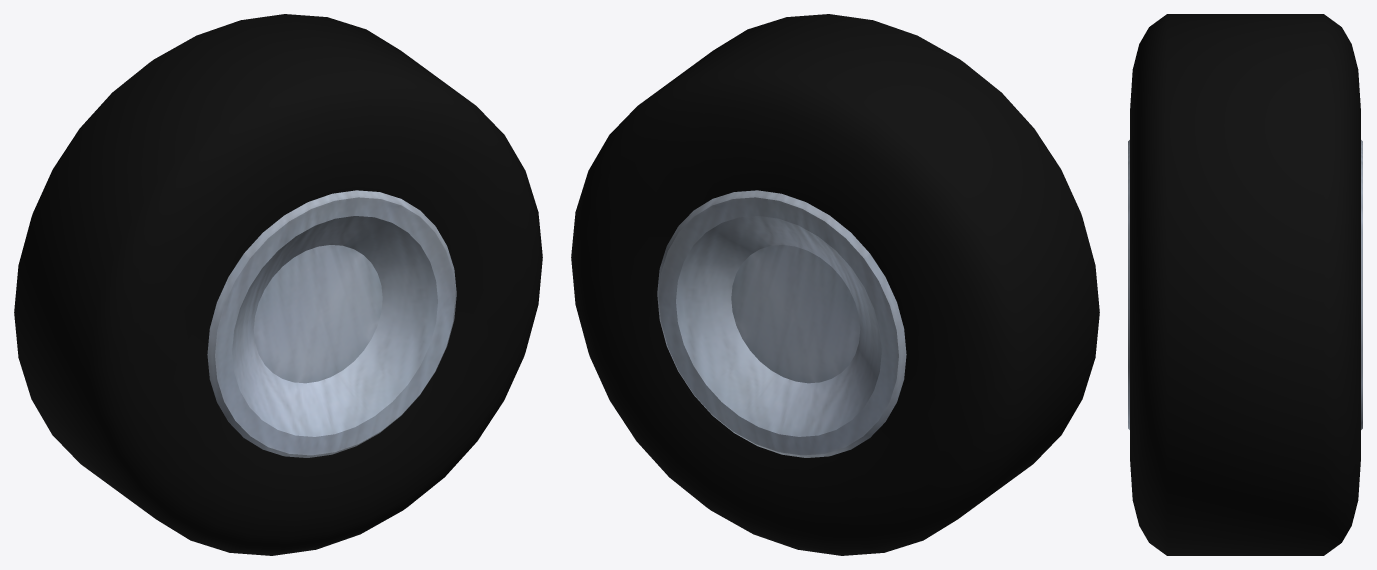
File: wheel.dae
The picture shows the model from 3 angles, left to right: view 1: azimuth 30°, elevation 25°; view 2: azimuth 150°, elevation 25°; view 3: azimuth 270°, elevation 25°; orthographic projection. The views are drawn at different scales.
Parts seen in each view (by area): view 1: Wheel_LOD300; view 2: Wheel_LOD300; view 3: Wheel_LOD300.
Part boxes in pixels (box(x1,y1,x2,y2)): Wheel_LOD300: box(14, 14, 542, 555); Wheel_LOD300: box(571, 14, 1099, 555); Wheel_LOD300: box(1128, 14, 1362, 555).
Size of what is drawn, in the model's own units: 1.2 by 0.5195 by 1.2.
Materials: 1 (1 with a texture image).
